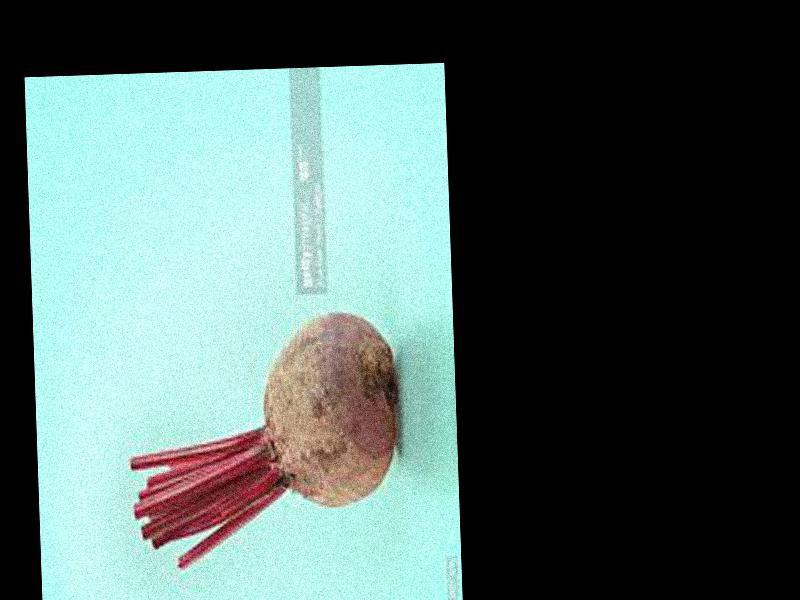Beet: (128, 310, 403, 568)
